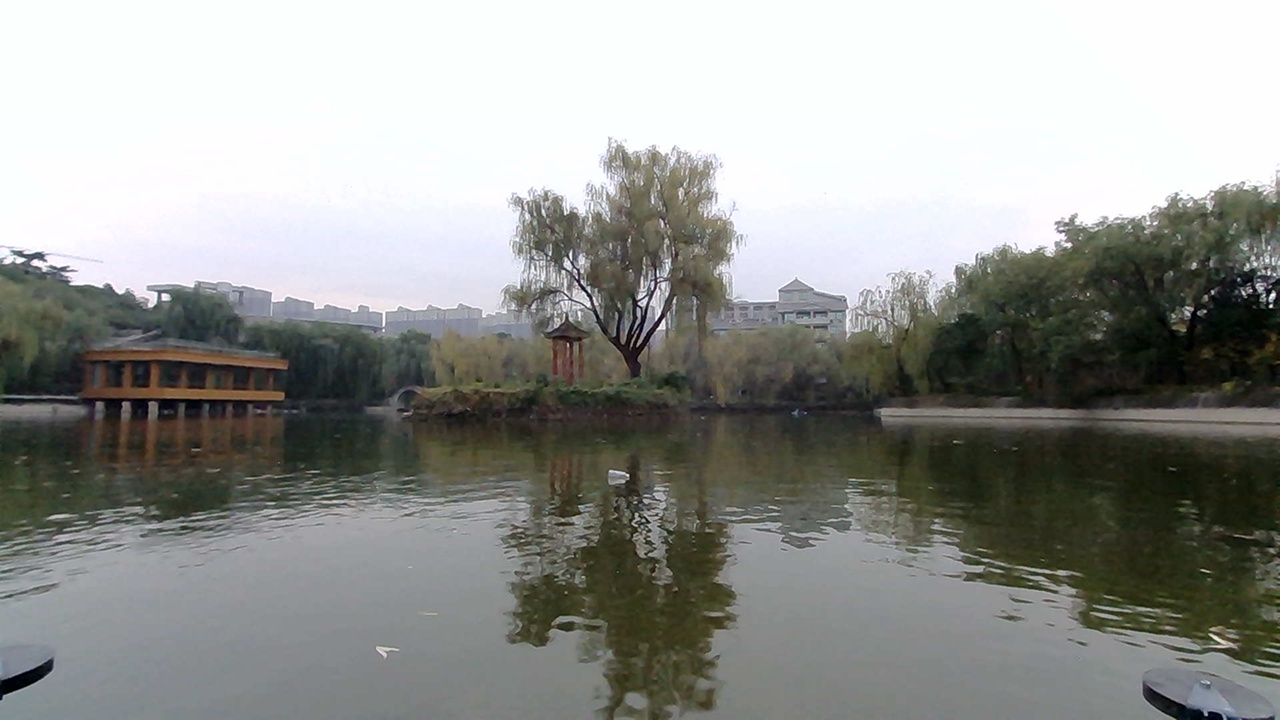bottle: (585, 457, 649, 490)
